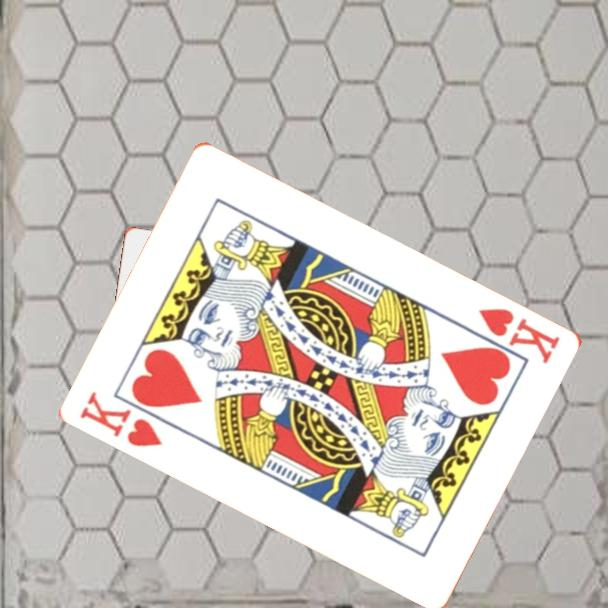h13: (76, 387, 166, 450), (475, 304, 564, 367)
